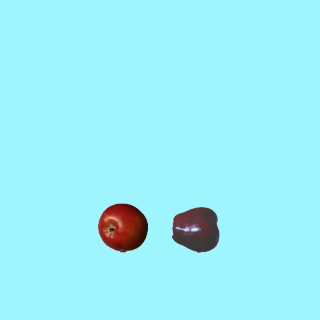Apple Braeburn: (97, 202, 147, 252)
Apple Red Delicious: (171, 204, 221, 254)
